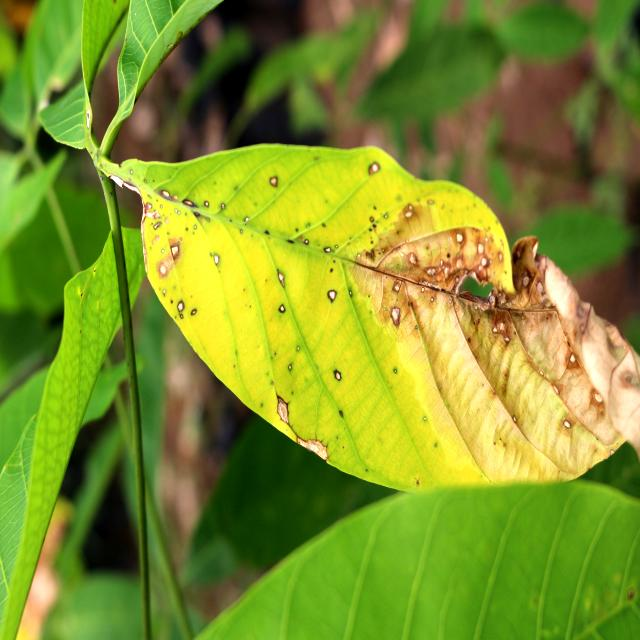Colletotrichum: (391, 308, 400, 327), (368, 162, 380, 175), (327, 290, 337, 303), (170, 246, 179, 257), (334, 369, 341, 382), (270, 176, 278, 187), (456, 233, 464, 244), (178, 300, 185, 312), (213, 254, 220, 265), (478, 243, 484, 254), (563, 420, 571, 428), (279, 304, 285, 314), (481, 257, 486, 267), (190, 309, 197, 315), (324, 247, 331, 253), (512, 415, 516, 423), (304, 239, 309, 245), (204, 201, 209, 207), (288, 364, 292, 371), (370, 216, 374, 222), (421, 287, 425, 292), (448, 299, 452, 304), (349, 290, 352, 296), (394, 368, 397, 374), (180, 314, 183, 319), (431, 297, 434, 302), (297, 346, 300, 351), (194, 225, 197, 229), (162, 290, 165, 294), (130, 170, 133, 174), (330, 268, 333, 272), (335, 245, 338, 248), (478, 319, 480, 323), (514, 331, 516, 335), (415, 326, 417, 330), (601, 412, 603, 416), (261, 404, 263, 407), (240, 230, 242, 233), (210, 253, 212, 256)
Leaf-Blight: (357, 205, 640, 485), (297, 436, 328, 461), (277, 395, 289, 424)
